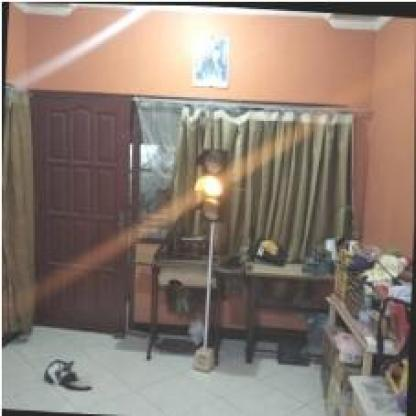yellow: (194, 147, 227, 222)
